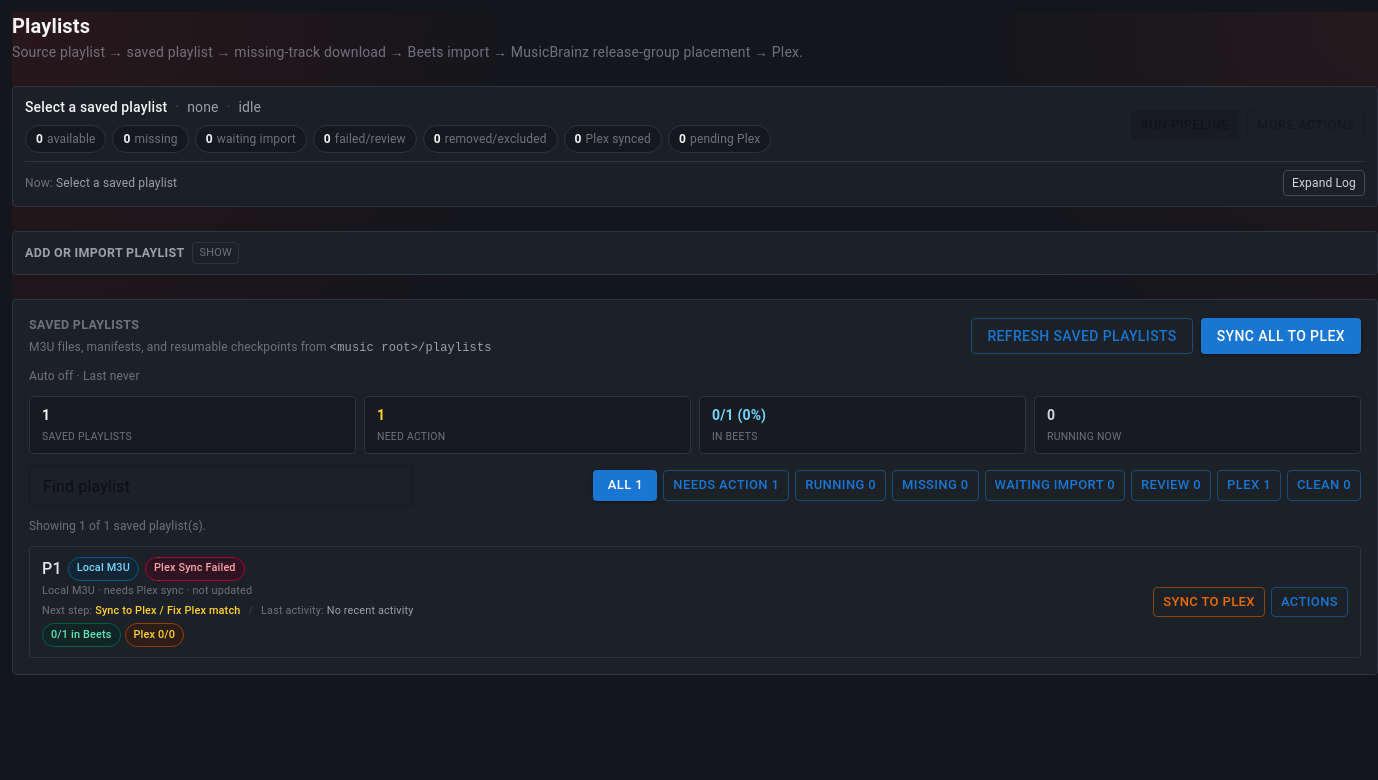
Test: Playlists sync all (#343) › follows an already-running sync and reports a failed job as failed
Expected: the text "Plex Sync Failed" is shown, [145,557,245,581]
Click the button "Sync All to Plex" at [1281, 336], box [1201,318,1361,354]
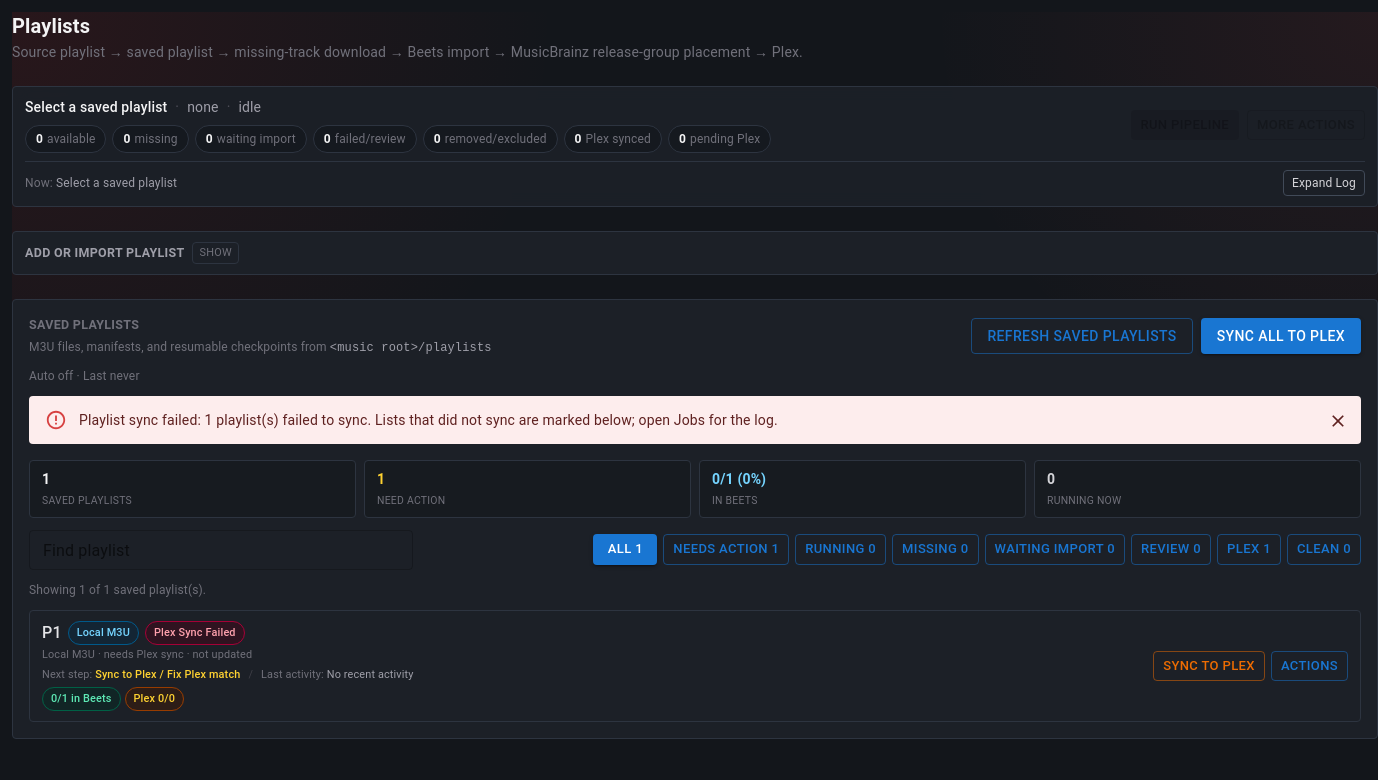
Expected: the text "Playlist sync failed: 1 playlist(s) failed to sync" is shown, [79,412,778,428]
